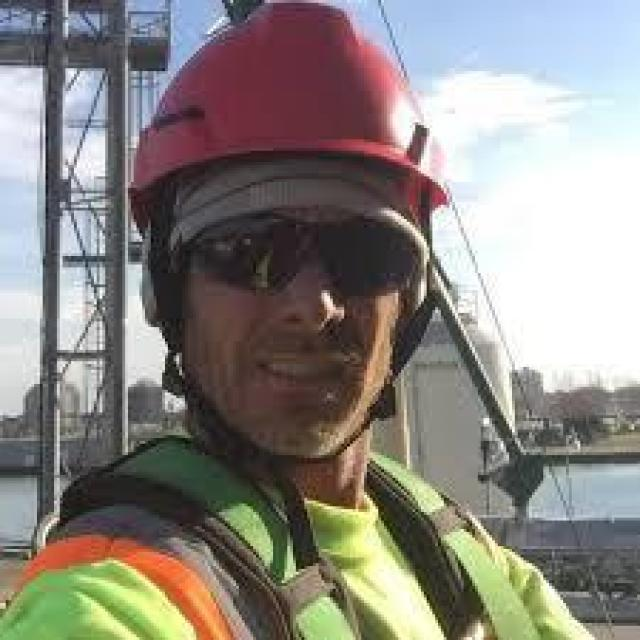helmet: (127, 0, 449, 213)
